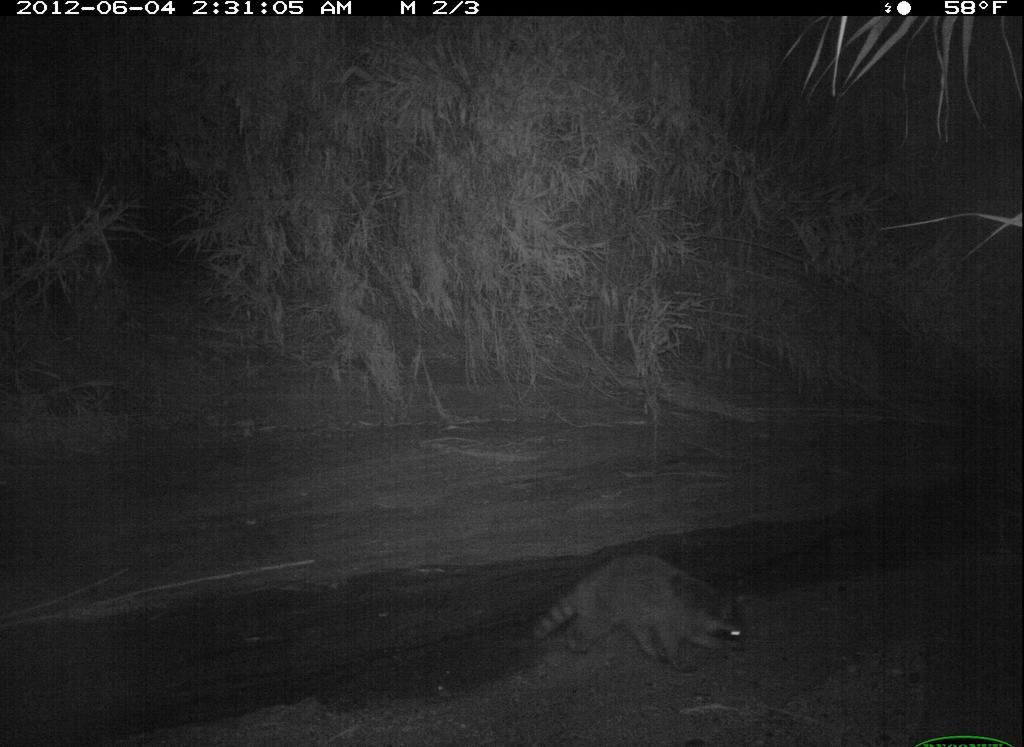raccoon: (525, 548, 753, 679)
